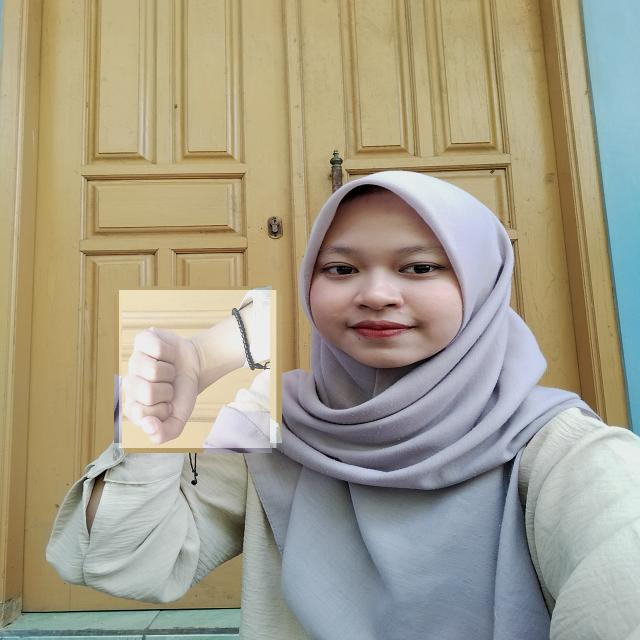baik: (120, 290, 278, 448)
